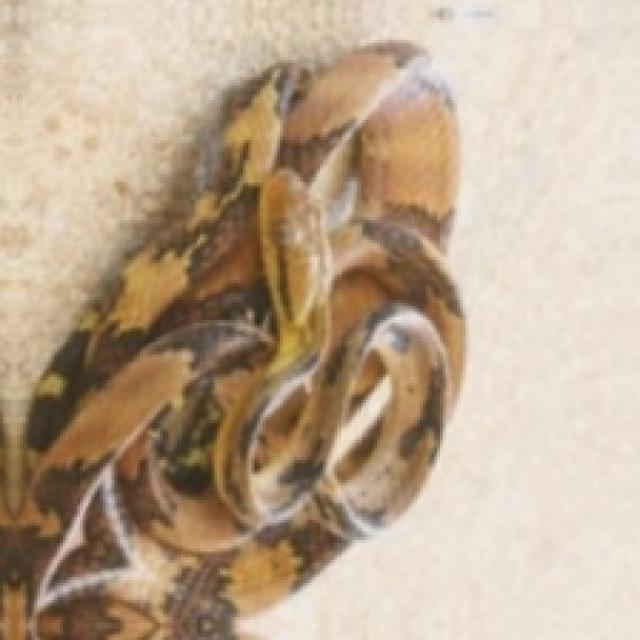dog-toothed cat snake: (26, 43, 463, 637)
